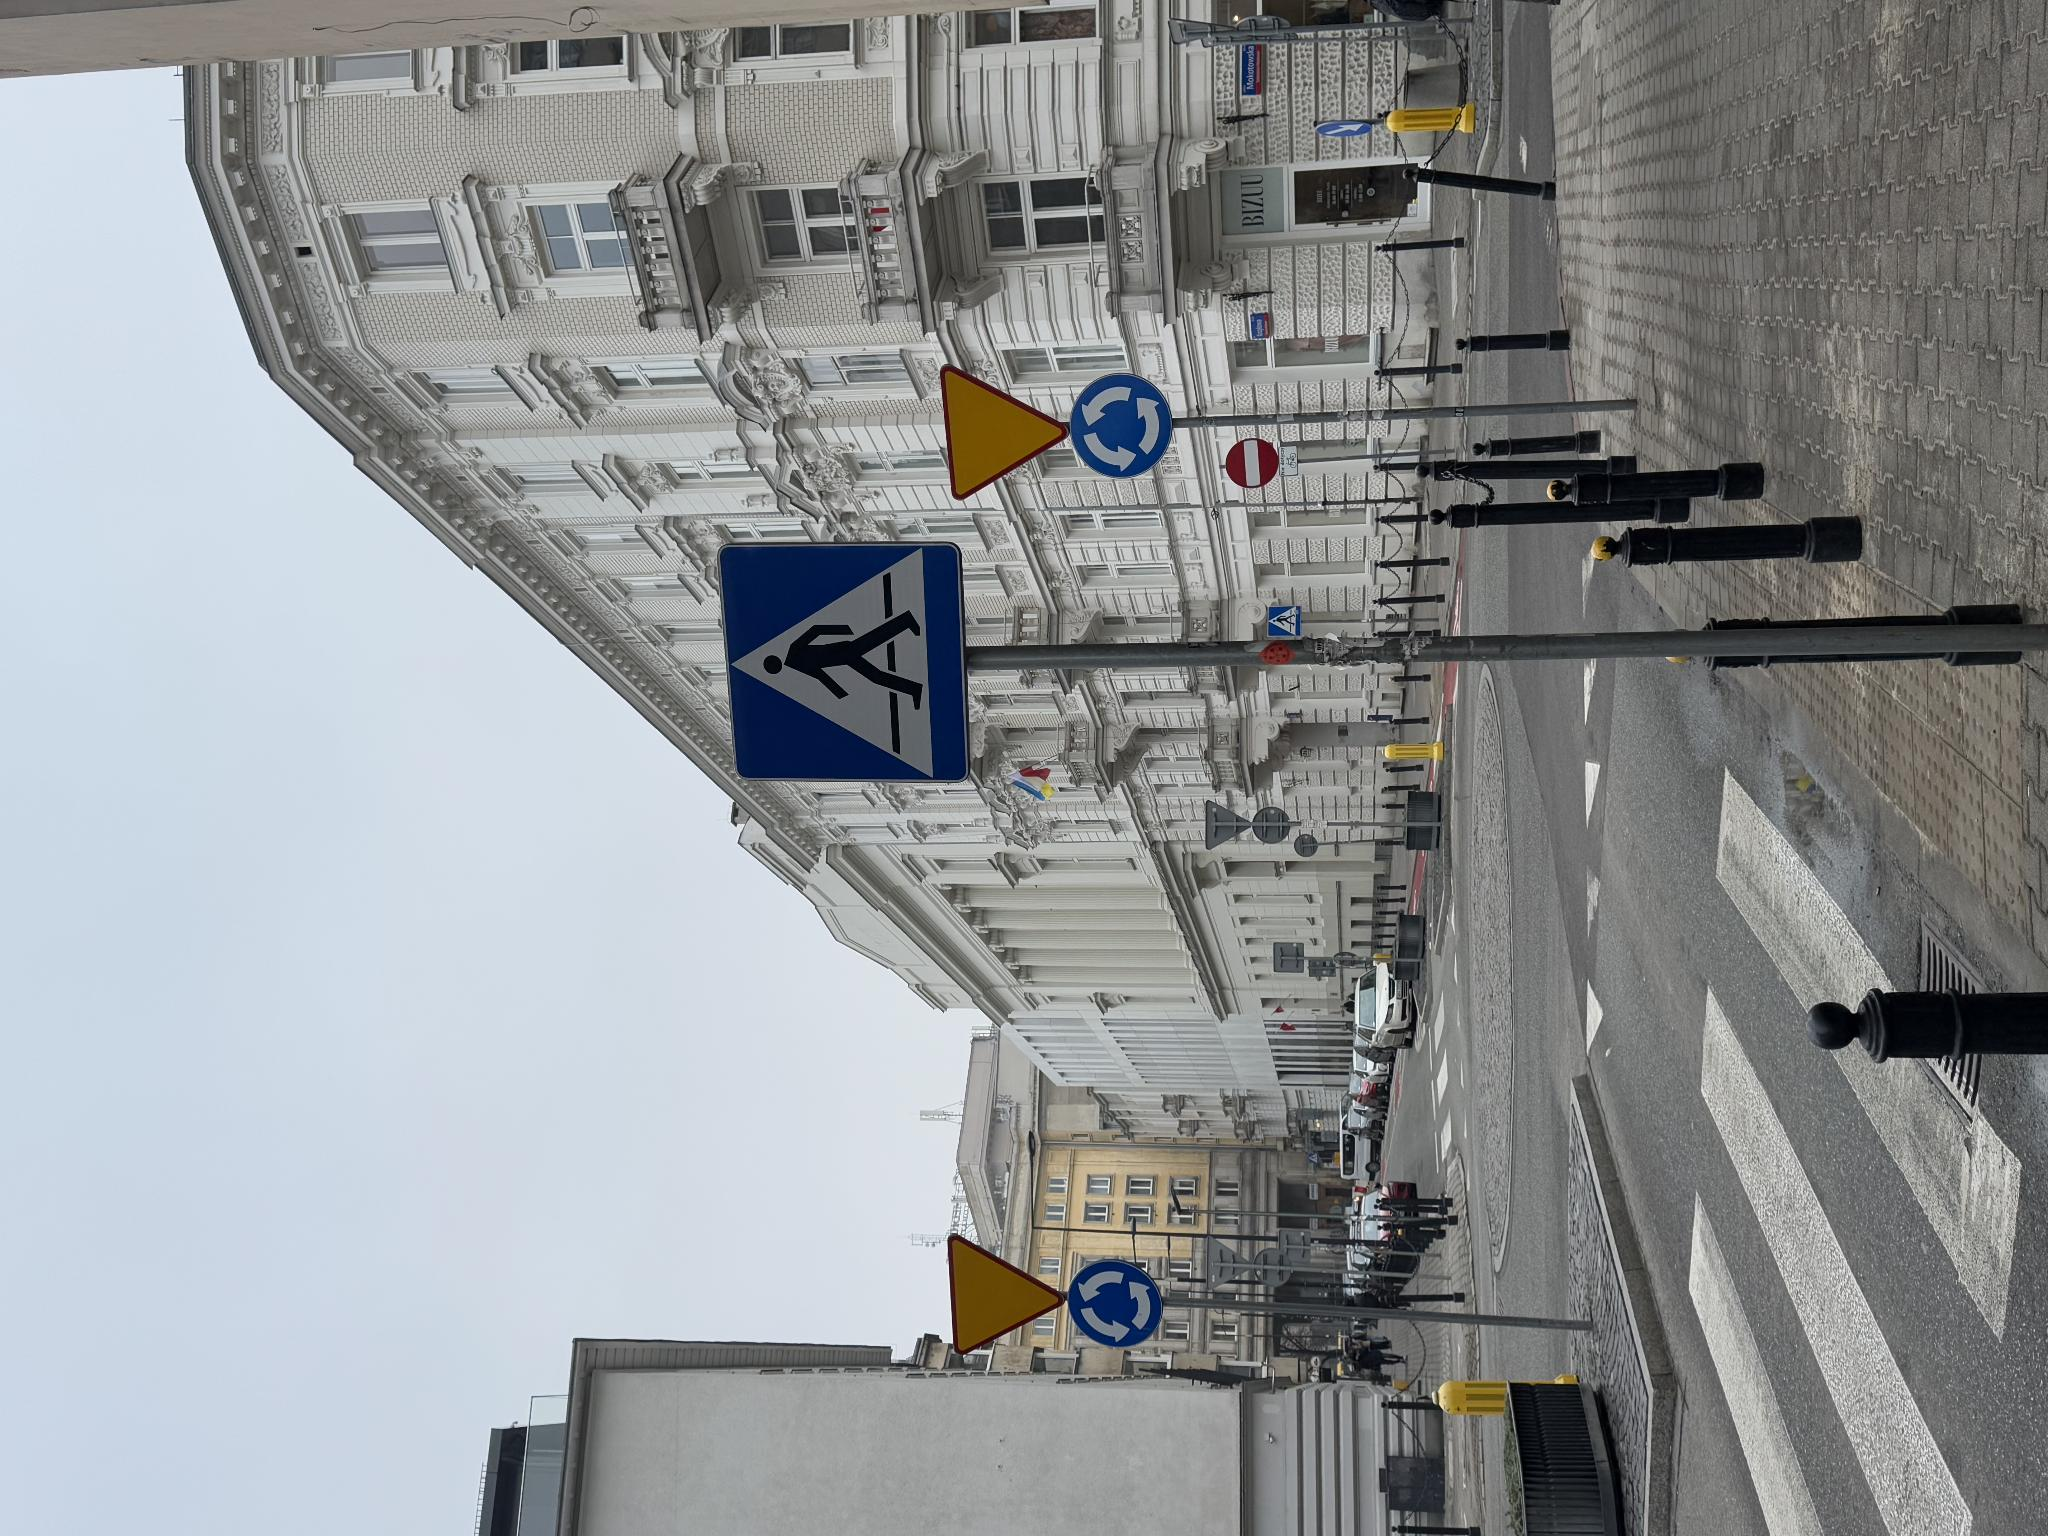information: (753, 716, 997, 970), (900, 1267, 930, 1300)
mandatory: (1058, 1070, 1164, 1173), (187, 1068, 279, 1165)
prohibitory: (1048, 1226, 1098, 1279)
warning: (1035, 941, 1172, 1070), (181, 945, 303, 1065)
